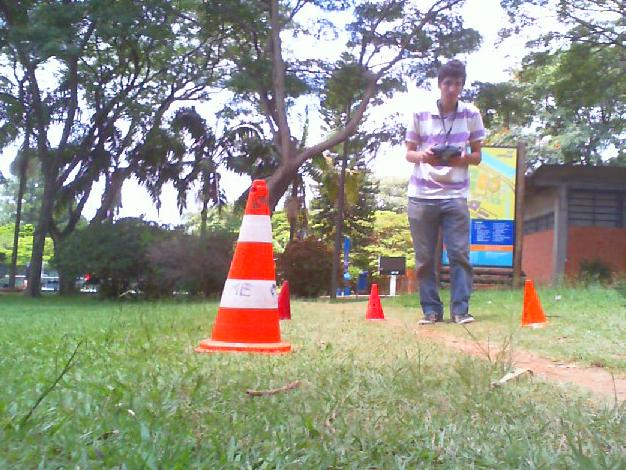0 cone: (200, 179, 290, 351), (521, 280, 546, 327), (366, 284, 385, 320), (278, 281, 291, 320)
